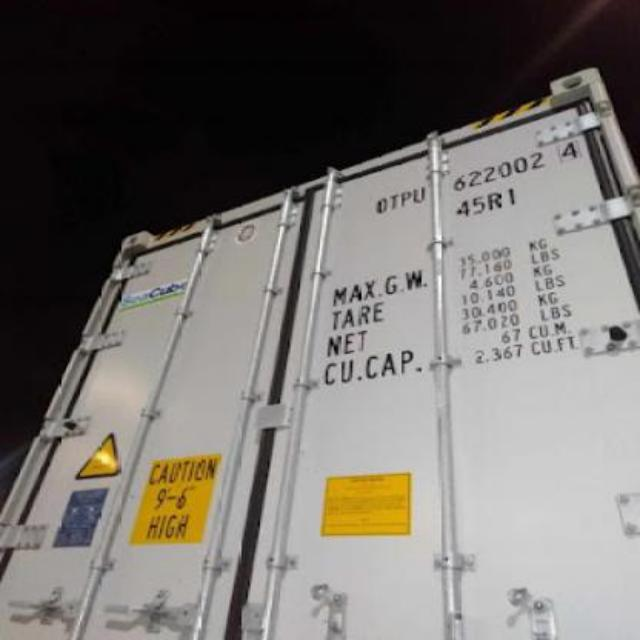0: (492, 154, 512, 182), (510, 150, 530, 177)
2: (528, 147, 546, 177), (480, 158, 498, 186), (466, 163, 482, 189)
4: (552, 140, 582, 160)
6: (446, 168, 466, 194)
O: (367, 187, 388, 217)
P: (398, 182, 412, 215)
T: (384, 189, 400, 219)
U: (410, 182, 428, 208)
